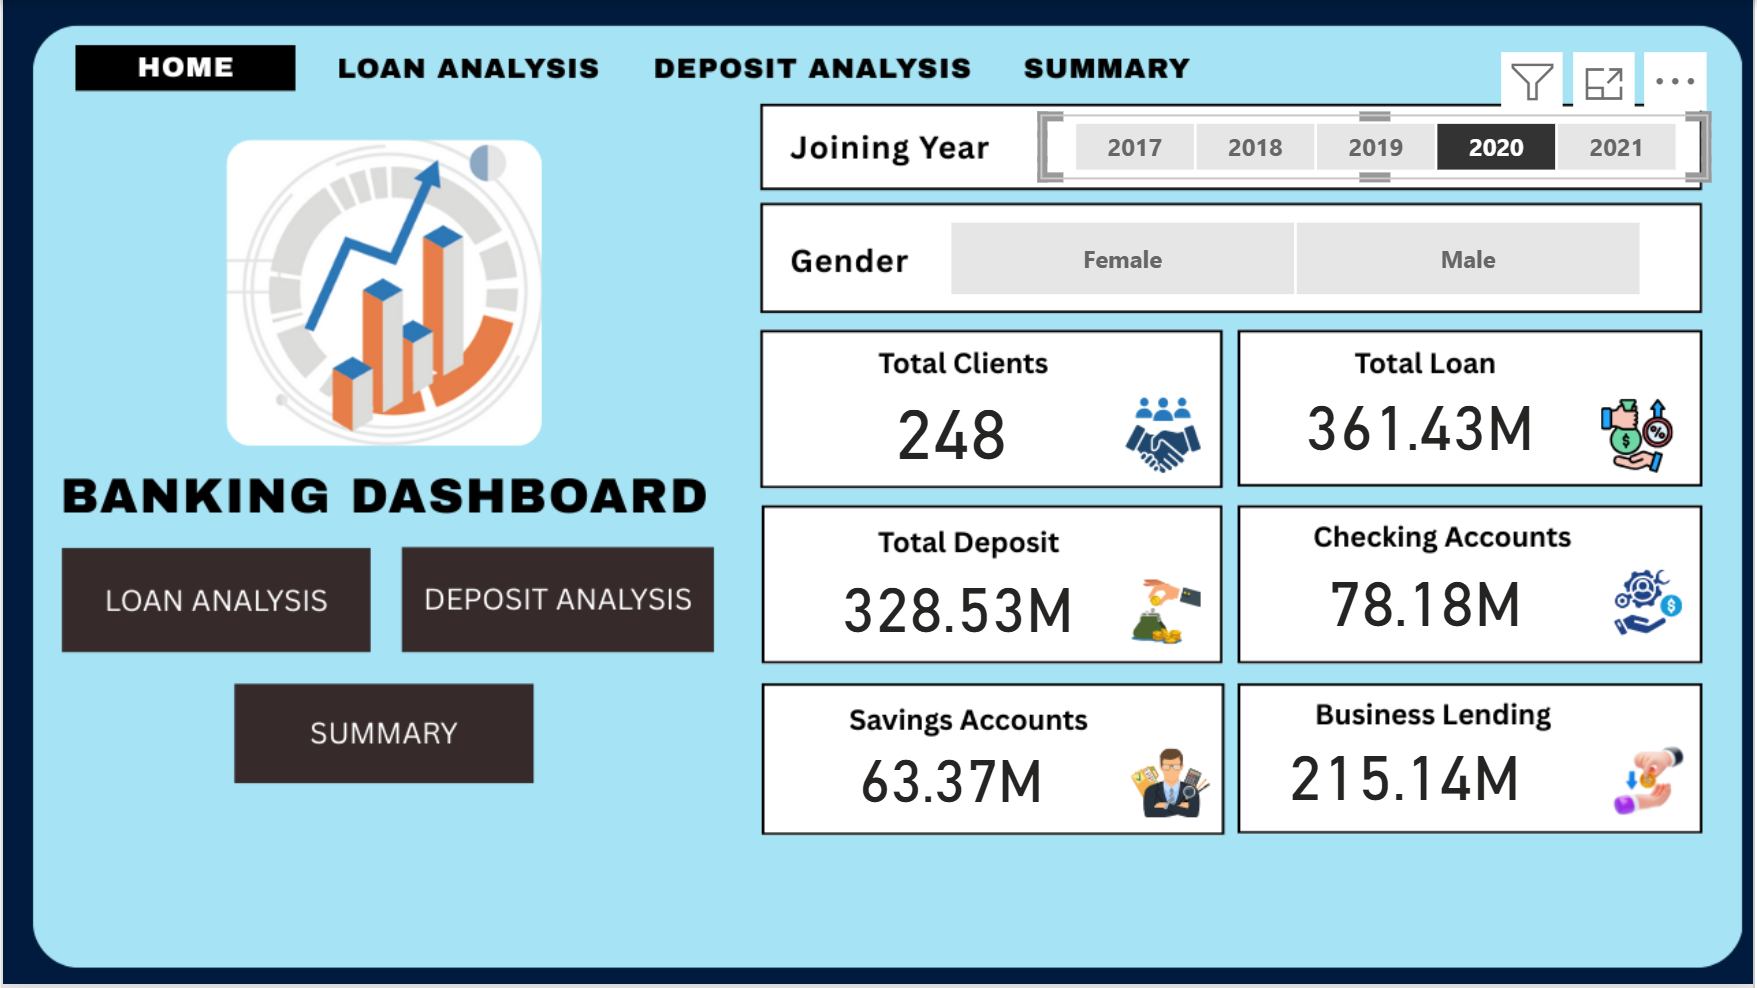

Layout of this report page (visuals, bound fields, positions):
{"tool":"powerbi","page":{"name":"Home","canvas":[1280,720],"ordinal":0},"visuals":[{"type":"card","fields":{"Values":["CountNonNull(Banking1.Name)"]},"box":[598.4,294.6,188.9,55.5],"z":0},{"type":"card","fields":{"Values":["Banking1.Total Deposit"]},"box":[607.6,424,183.6,55.5],"z":1000},{"type":"card","fields":{"Values":["Sum(Banking1.Saving_Accounts)"]},"box":[587.8,549.5,211.4,55.5],"z":2000},{"type":"card","fields":{"Values":["Sum(Banking1.Business_Lending)"]},"box":[928.6,544.2,194.2,60.8],"z":3000},{"type":"card","fields":{"Values":["Sum(Banking1.Checking_Accounts)"]},"box":[935.2,418.7,208.7,58.1],"z":4000},{"type":"slicer","fields":{"Values":["Banking1.GenderId"]},"box":[667.1,155.9,553.5,66],"z":5000},{"type":"card","fields":{"Values":["Banking1.Total Loan"]},"box":[941.8,291.9,190.2,55.5],"z":6000},{"type":"slicer","fields":{"Values":["Banking1.Joined_Bank.Variation.Date Hierarchy.Year"]},"box":[759.5,83.2,488.8,47.6],"z":7000},{"type":"actionButton","box":[40.9,401.6,228.5,72.7],"z":8000},{"type":"actionButton","box":[290.6,400.2,229.8,74],"z":9000},{"type":"actionButton","box":[170.4,500.6,215.3,72.7],"z":10000},{"type":"actionButton","box":[235.1,30.4,210,39.6],"z":11000},{"type":"actionButton","box":[467.6,30.4,248.3,39.6],"z":12000},{"type":"actionButton","box":[735.8,30.4,147.9,39.6],"z":13000}]}

Visuals, with their boxes in screenshot pixels (x1, y1, x2, y2), scaled from the page's 1280x720 canvas onto the 1757x988 screenshot:
card - CountNonNull(Banking1.Name): Rect(821, 404, 1081, 480)
card - Banking1.Total Deposit: Rect(834, 582, 1086, 658)
card - Sum(Banking1.Saving_Accounts): Rect(807, 754, 1097, 830)
card - Sum(Banking1.Business_Lending): Rect(1275, 747, 1541, 830)
card - Sum(Banking1.Checking_Accounts): Rect(1284, 575, 1570, 654)
slicer - Banking1.GenderId: Rect(916, 214, 1675, 304)
card - Banking1.Total Loan: Rect(1293, 401, 1554, 477)
slicer - Banking1.Joined_Bank.Variation.Date Hierarchy.Year: Rect(1043, 114, 1713, 179)
actionButton: Rect(56, 551, 370, 651)
actionButton: Rect(399, 549, 714, 651)
actionButton: Rect(234, 687, 529, 787)
actionButton: Rect(323, 42, 611, 96)
actionButton: Rect(642, 42, 983, 96)
actionButton: Rect(1010, 42, 1213, 96)
